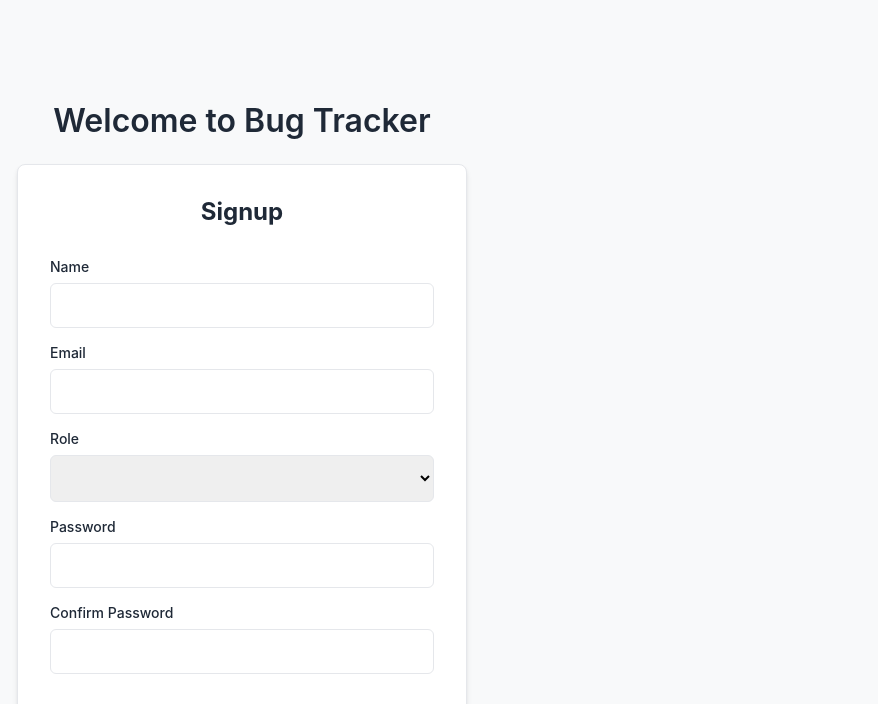
Test: Signup flow › signs up successfully with valid data
The image size is (878, 704).
In the field with test id "name-input": x=242, y=306 [50,283,434,328], type "New User"
In the field with test id "email-input": x=242, y=392 [50,369,434,414], type "newuser@test.com"
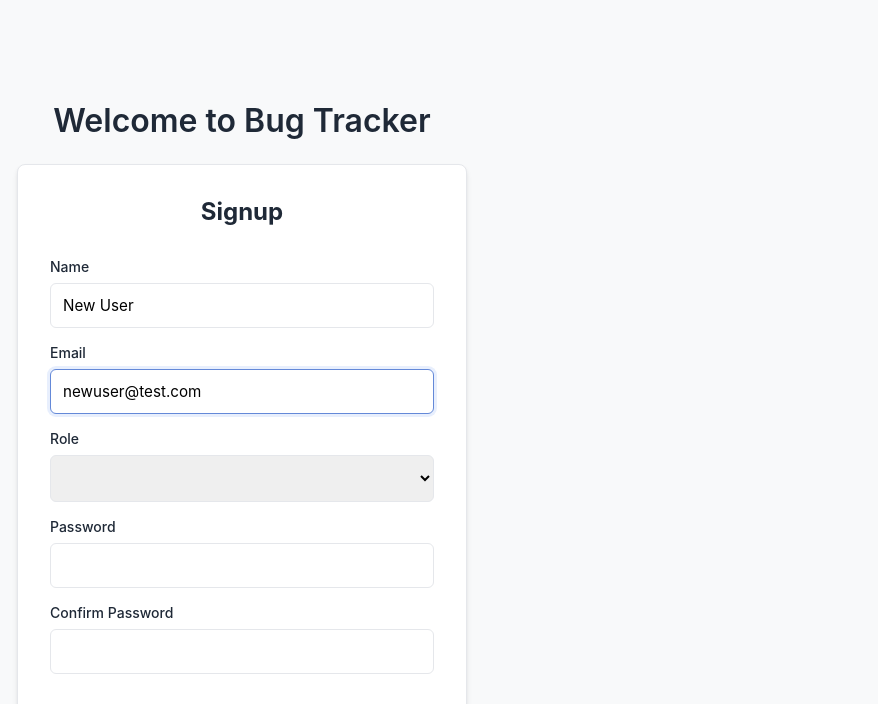
Select "MANAGER" in the dropdown with test id "role-select": x=242, y=479 [50,455,434,502]
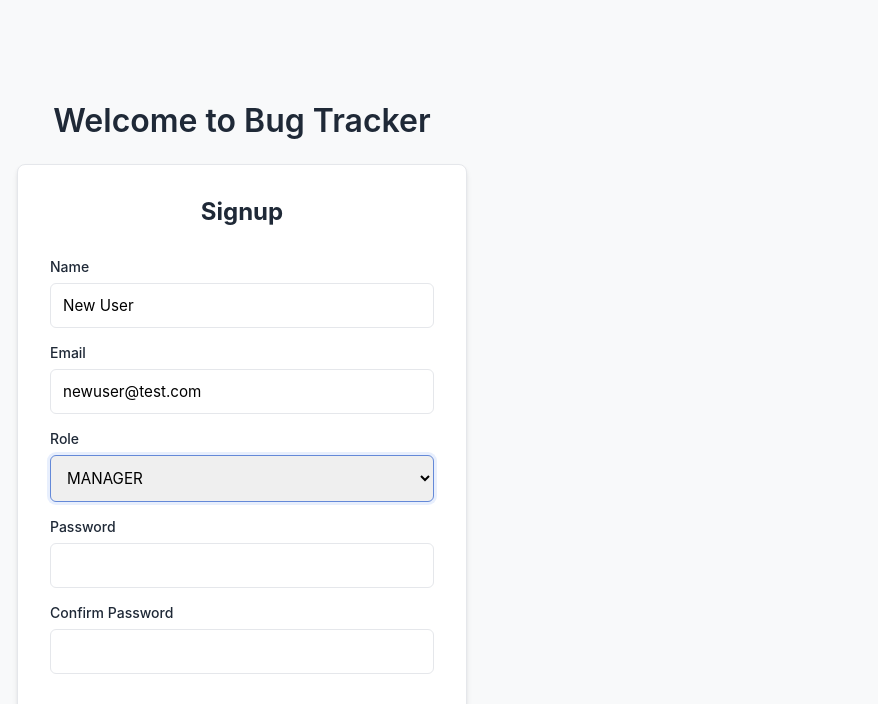
In the field with test id "password-input": x=242, y=566 [50,543,434,588], type "secret123"
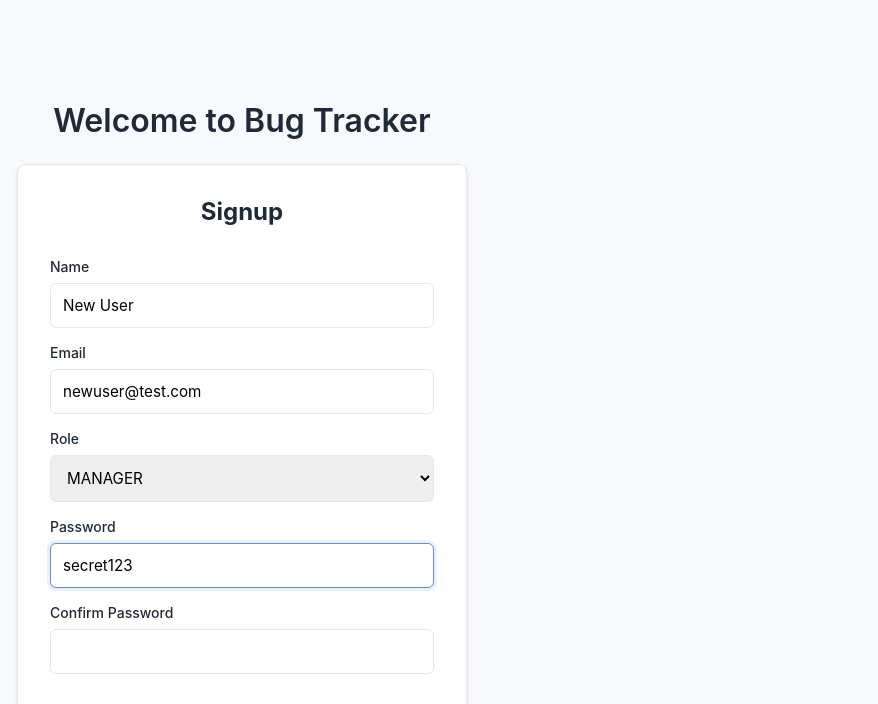
In the field with test id "confirm-password-input": x=242, y=652 [50,629,434,674], type "secret123"
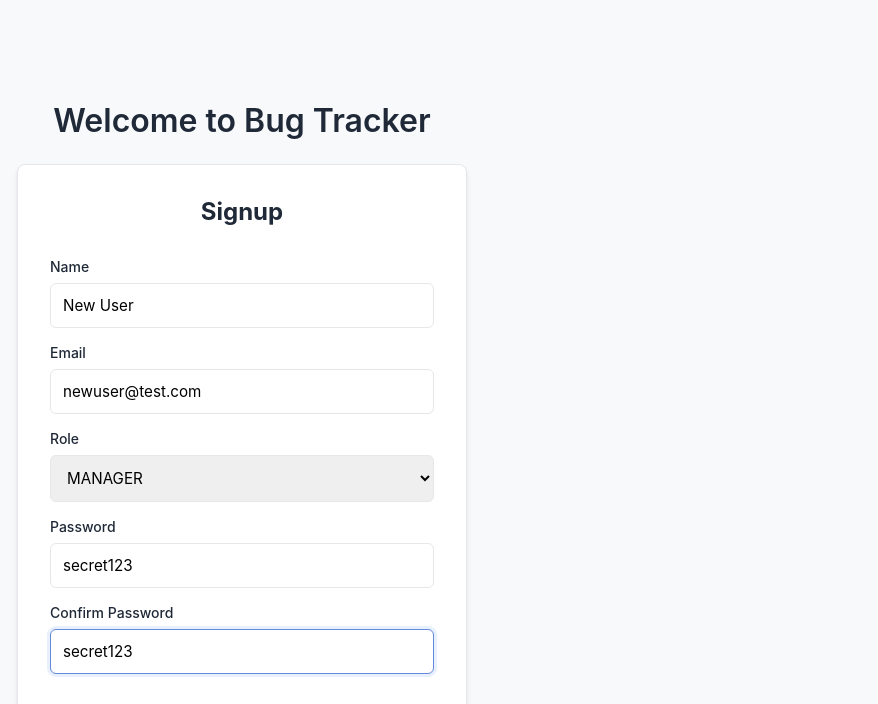
Scroll
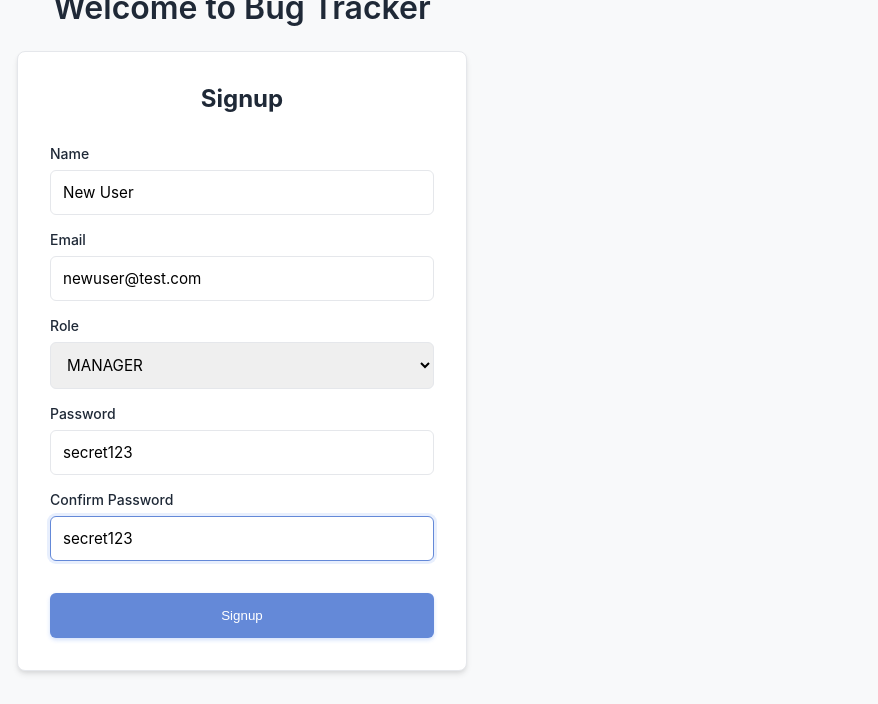
Click the button with test id "submit-btn": x=242, y=616 [50,593,434,638]
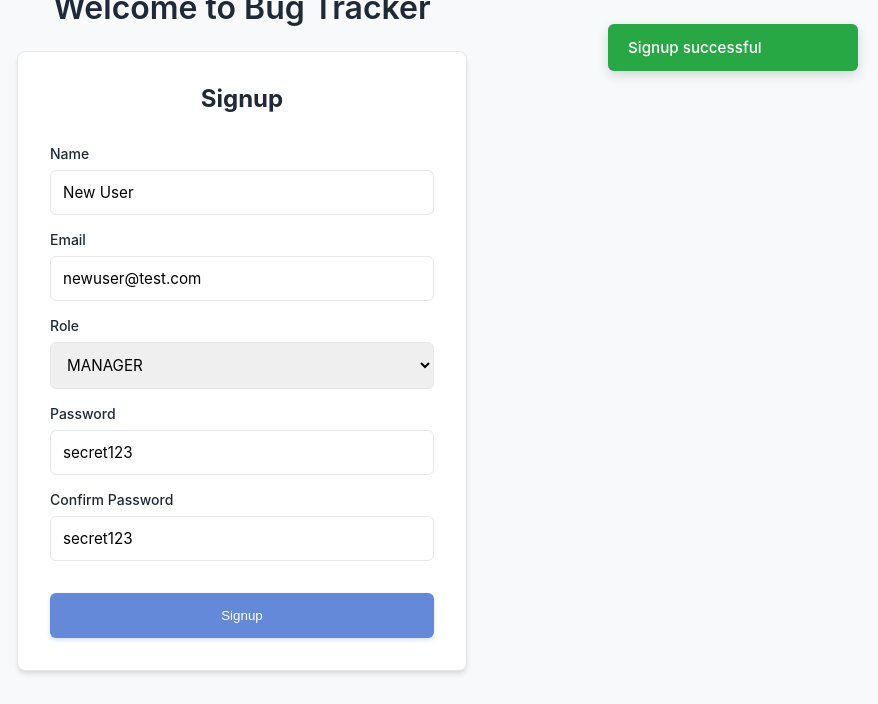
Expected: the text with test id "success-toast" reads "Signup successful", [628,38,762,57]
